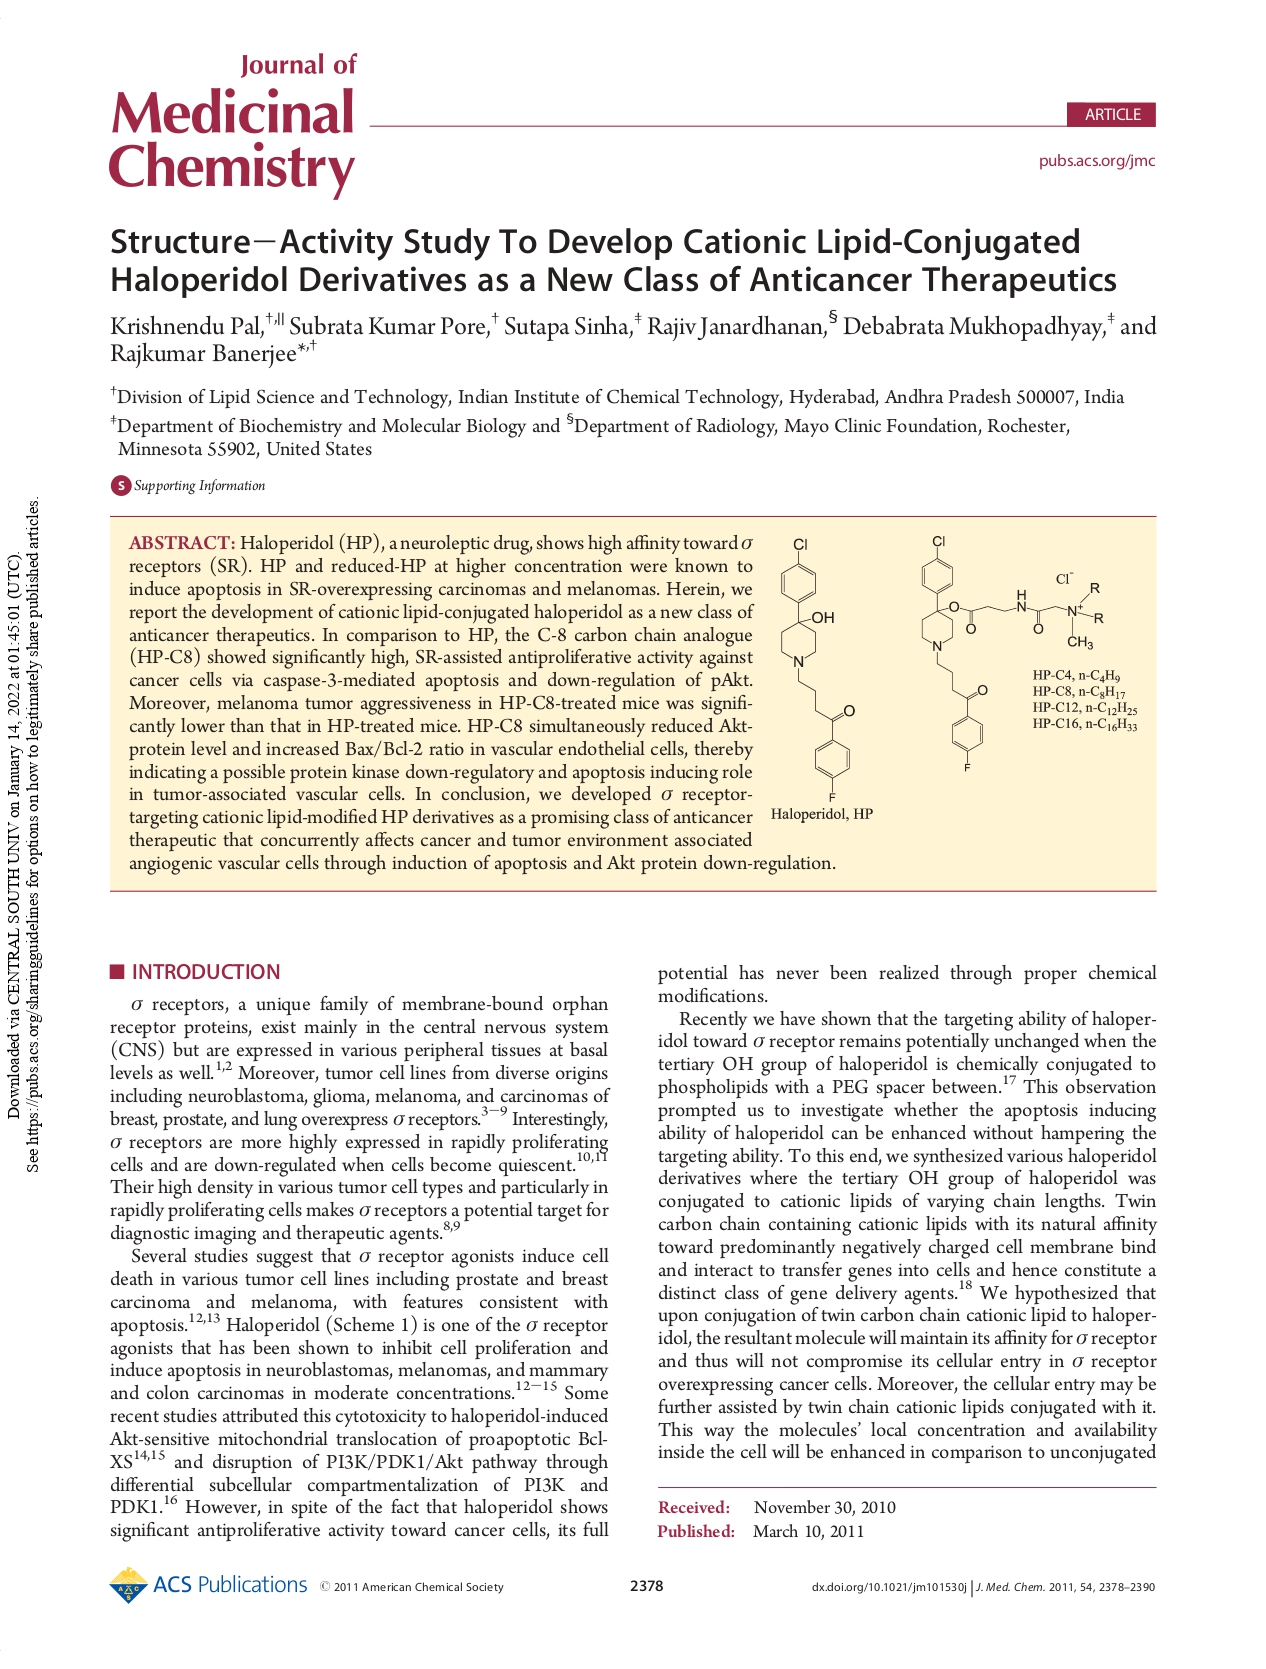exist_molecular: (914, 532, 1108, 777), (774, 535, 860, 806)
